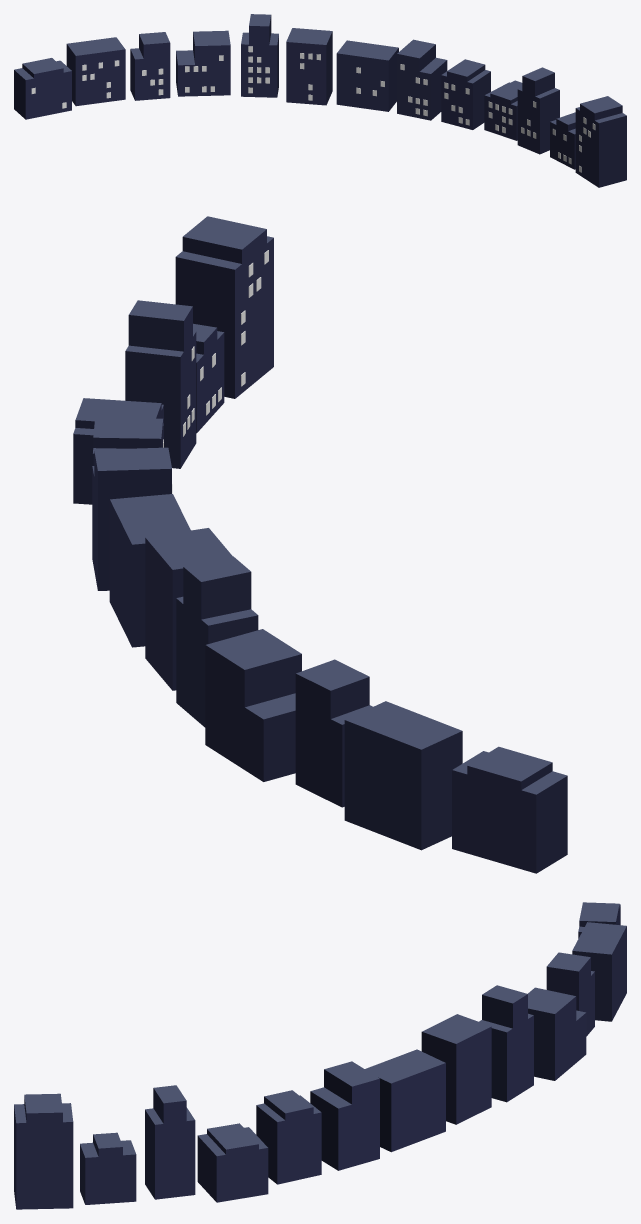
The model's file is Skyline_Near.fbx.
3 renders of one model, top to bottom at view 1: azimuth 30°, elevation 25°; view 2: azimuth 150°, elevation 25°; view 3: azimuth 270°, elevation 25°, orthographic. The views are drawn at different scales.
Visible parts, largest first — view 1: Skyline_Near, Skyline_Near_Windows; view 2: Skyline_Near, Skyline_Near_Windows; view 3: Skyline_Near.
Part boxes in pixels (<box>): Skyline_Near: <box>14,14,626,187</box>; Skyline_Near_Windows: <box>31,46,595,172</box>; Skyline_Near: <box>73,216,567,873</box>; Skyline_Near_Windows: <box>163,250,268,493</box>; Skyline_Near: <box>14,902,626,1209</box>.
Size of the model in its own units: 317 by 55.88 by 323.
1 material, 1 textured.
